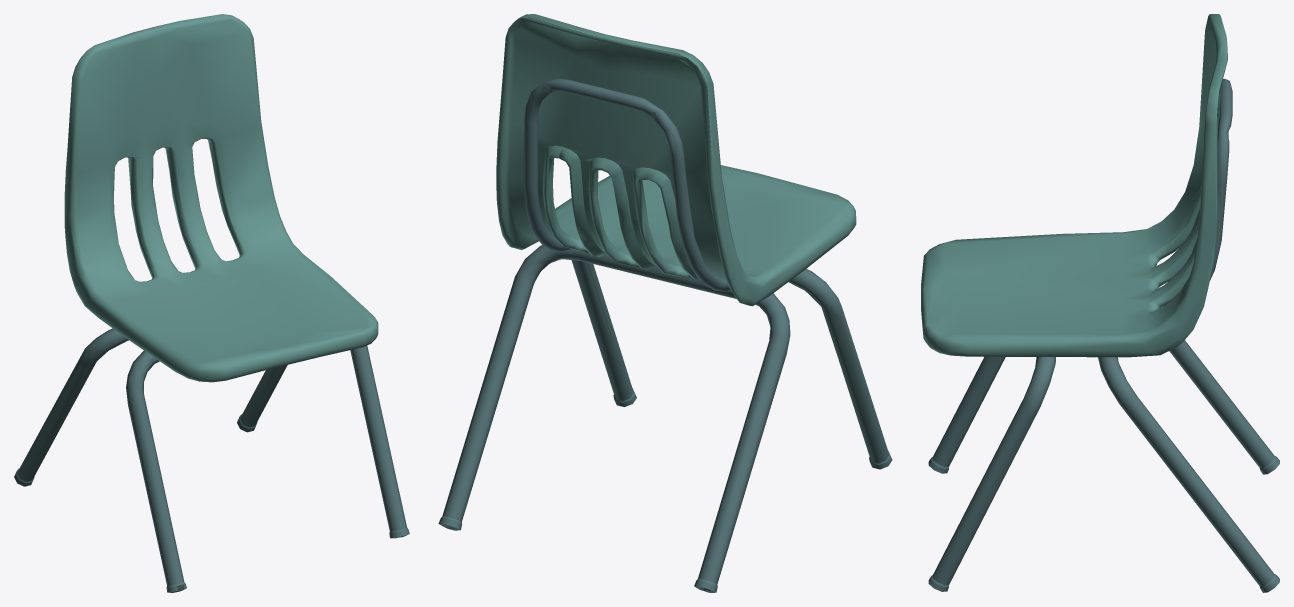
Rendered from school-chair.glb.
The picture shows the model from 3 angles, left to right: view 1: azimuth 30°, elevation 25°; view 2: azimuth 150°, elevation 25°; view 3: azimuth 270°, elevation 25°; orthographic projection. The views are drawn at different scales.
Visible parts, largest first — view 1: SchoolChair_01; view 2: SchoolChair_01; view 3: SchoolChair_01.
Boxes of the visible parts, x1,y1,x2,y2 form: SchoolChair_01: (14,14,409,592); SchoolChair_01: (438,14,892,592); SchoolChair_01: (921,14,1279,592).
Bounding box in the file's own units: 0.5659 × 1.01 × 0.6759.
